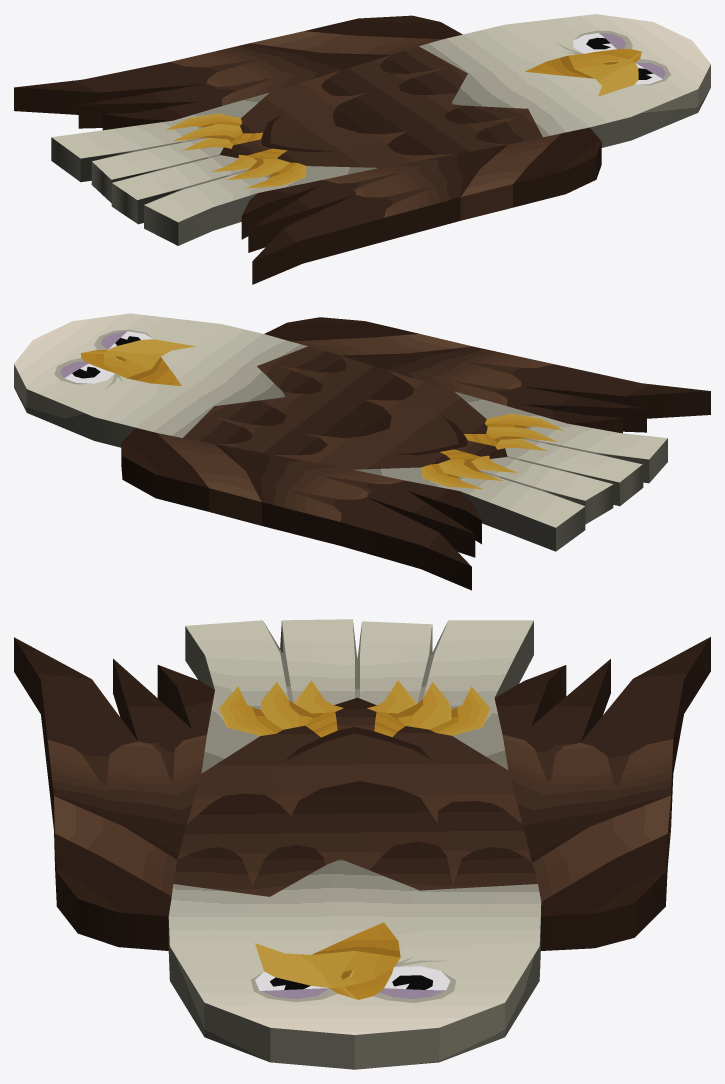
File: washingtonBoard01.glb
3 views of the same model, one above another, from view 1: azimuth 30°, elevation 25°; view 2: azimuth 150°, elevation 25°; view 3: azimuth 270°, elevation 25° (orthographic). The views are drawn at different scales.
Visible parts, largest first — view 1: washingtonBoard01; view 2: washingtonBoard01; view 3: washingtonBoard01.
Part boxes in pixels (x1,y1,x2,y2): washingtonBoard01: [14, 14, 710, 284]; washingtonBoard01: [14, 313, 710, 590]; washingtonBoard01: [14, 619, 710, 1069].
Bounding box in the file's own units: 10.95 × 0.4253 × 7.75.
Materials: 1 (1 with a texture image).
